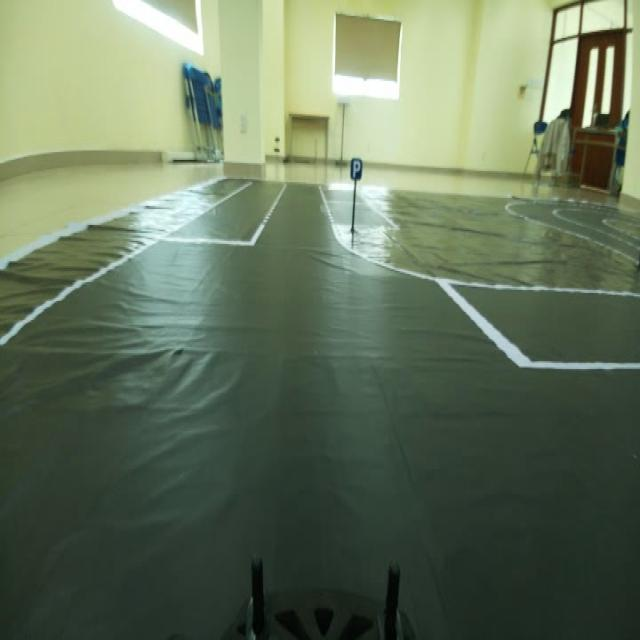parking: (347, 153, 367, 189)
